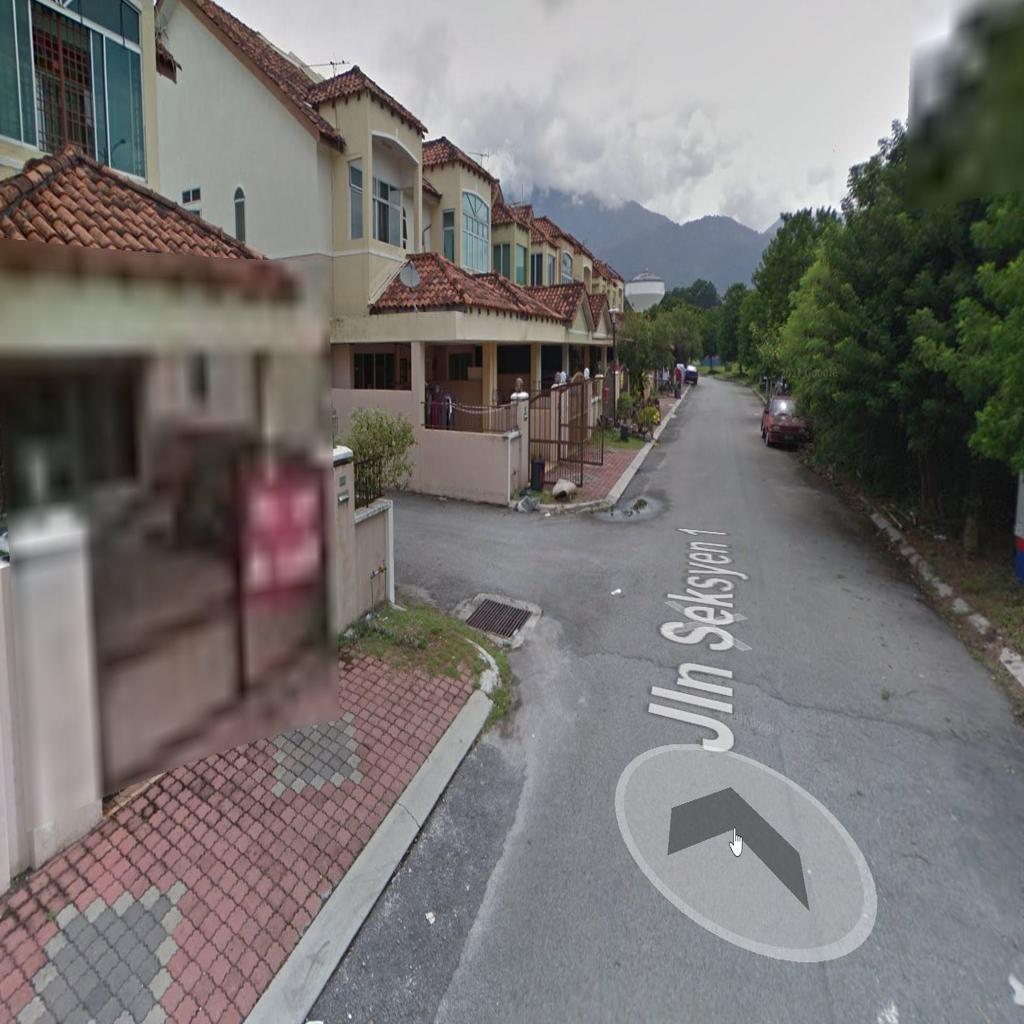Junction: (377, 461, 725, 722)
